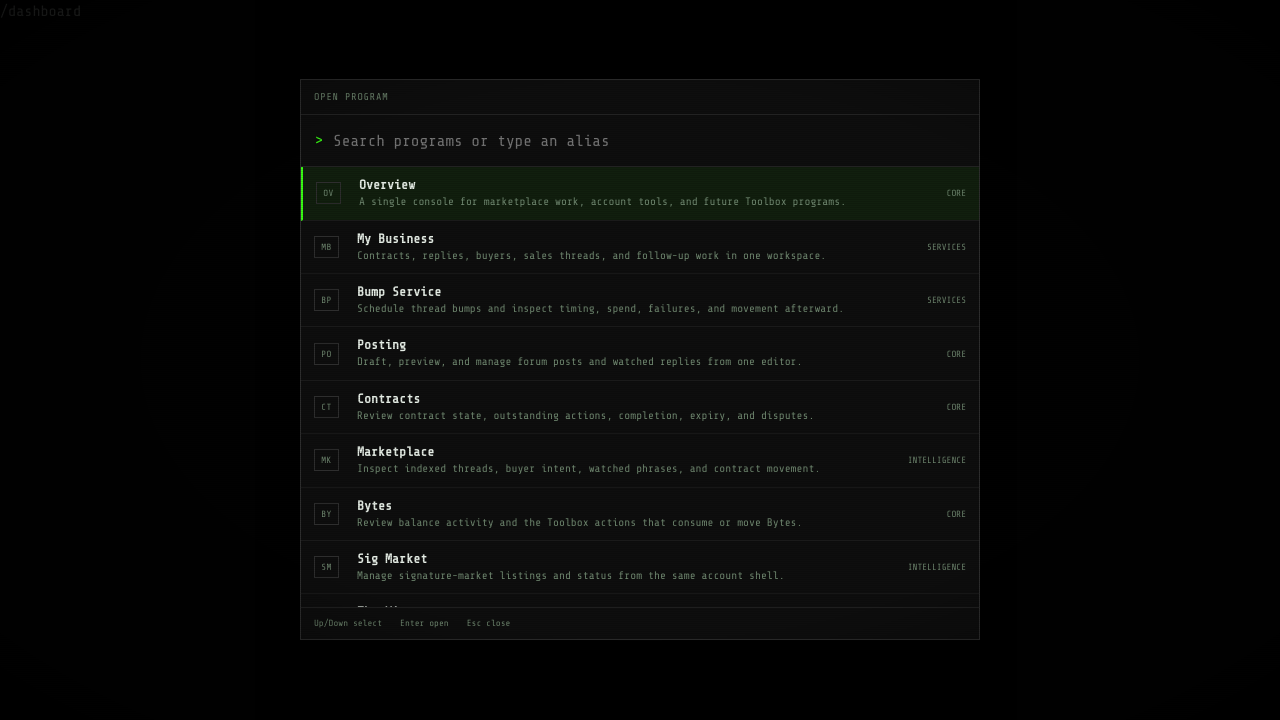
Test: authenticated program navigation › searches aliases and opens the selected route by keyboard
Type "bumps" into the field labelled "Open program" at coordinates (649, 141), box [333,115,965,166]
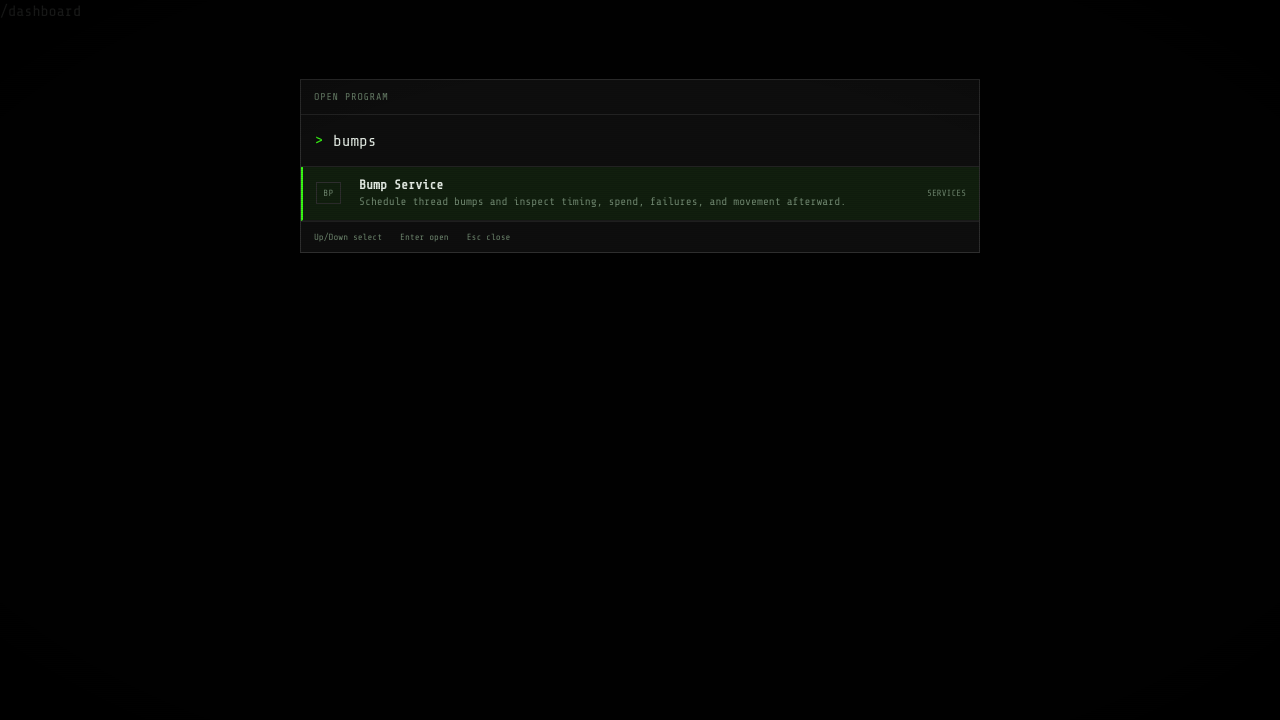
Expected: the option shows "Bump Service", [301,167,979,221]
Press Enter in the field labelled "Open program", box [333,115,965,166]
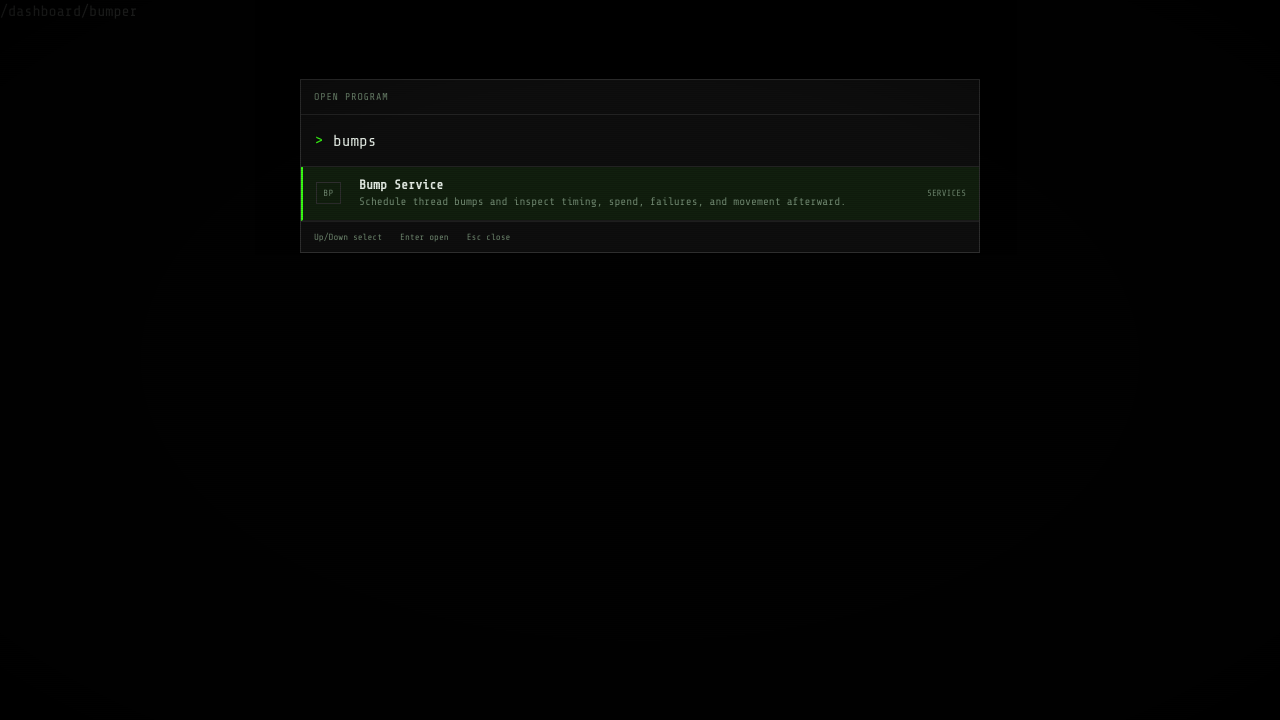
Result: the text with test id "location" reads "/dashboard/bumper" at [0,3,138,20]
